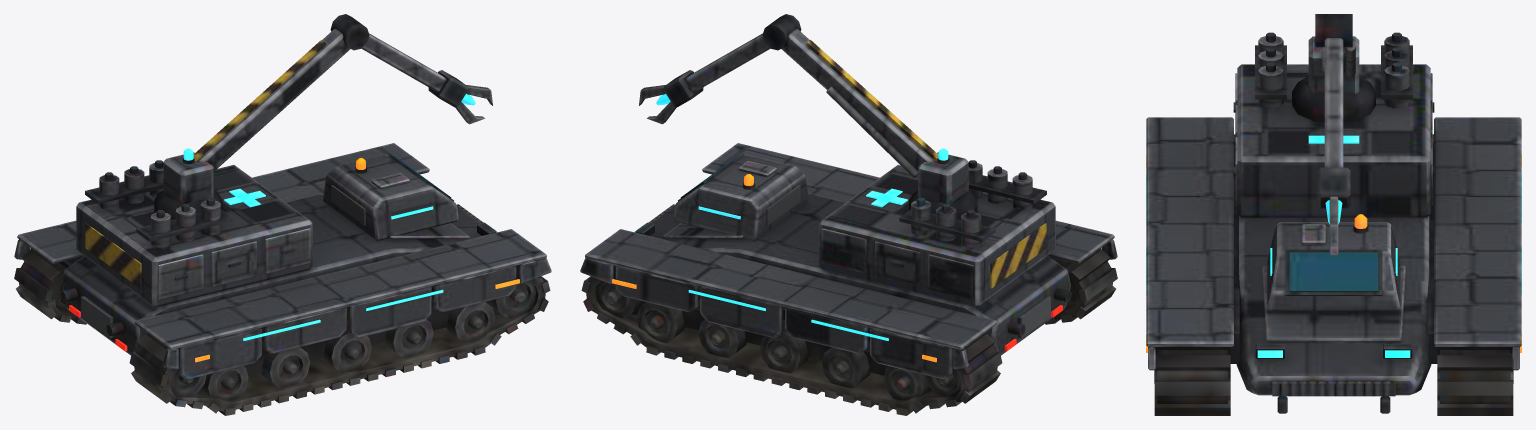
The model's file is mender.glb.
3 views of the same model, side by side, from view 1: azimuth 30°, elevation 25°; view 2: azimuth 150°, elevation 25°; view 3: azimuth 270°, elevation 25° (orthographic). The views are drawn at different scales.
Visible parts, largest first — view 1: Hull, Arm; view 2: Hull, Arm; view 3: Hull, Arm.
Boxes of the visible parts, left/top/right/bottom form: Hull: left=14, top=143, right=551, bottom=415; Arm: left=154, top=14, right=492, bottom=219; Hull: left=580, top=143, right=1117, bottom=415; Arm: left=639, top=14, right=977, bottom=219; Hull: left=1146, top=32, right=1521, bottom=415; Arm: left=1292, top=14, right=1375, bottom=255.
Size of the model in its own units: 6.82 by 4.73 by 4.47.
Materials: 1 (1 with a texture image).
